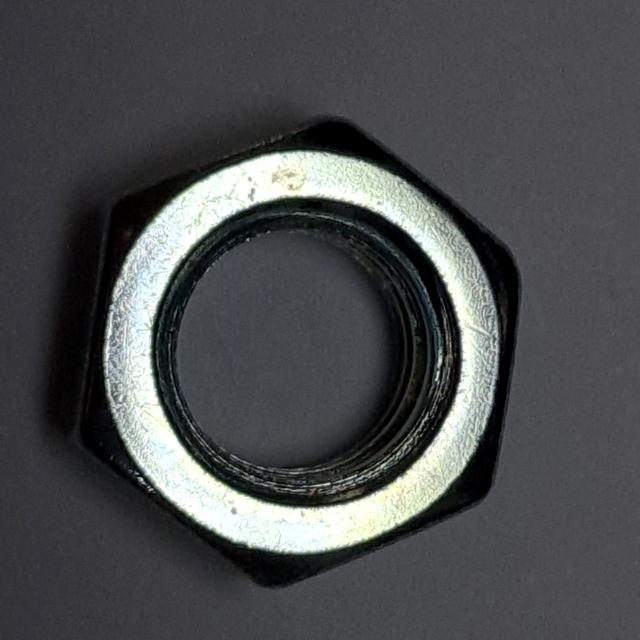Excellent: (60, 102, 535, 601)
